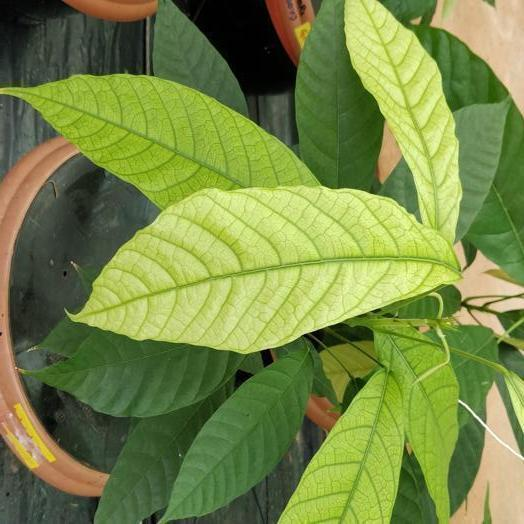Iron: (73, 187, 458, 352), (0, 75, 319, 208), (345, 0, 461, 242), (278, 370, 403, 523), (375, 327, 458, 523)
